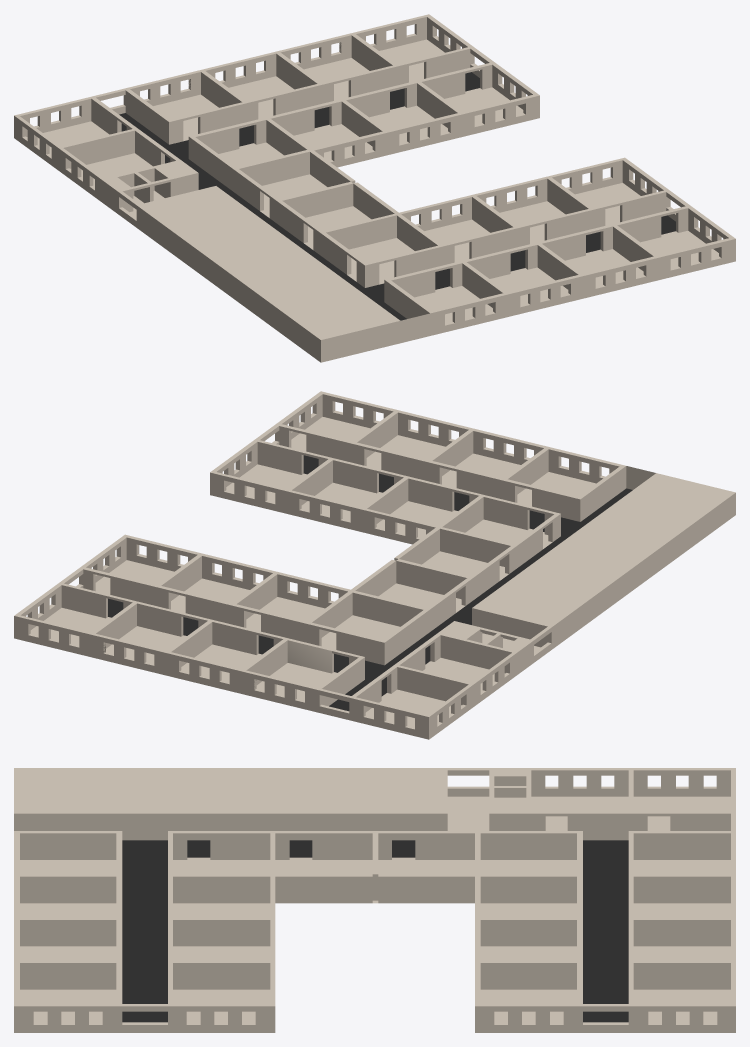
The model's file is C7noroof.fbx.
3 views of the same model, one above another, from view 1: azimuth 30°, elevation 25°; view 2: azimuth 150°, elevation 25°; view 3: azimuth 270°, elevation 25° (orthographic). The views are drawn at different scales.
Parts seen in each view (by area): view 1: C7; view 2: C7; view 3: C7.
Part boxes in pixels (bbox=[...]): C7: bbox=[14, 14, 735, 362]; C7: bbox=[14, 391, 735, 739]; C7: bbox=[14, 768, 735, 1032].
Bounding box in the file's own units: 19236 × 1000 × 24634.
